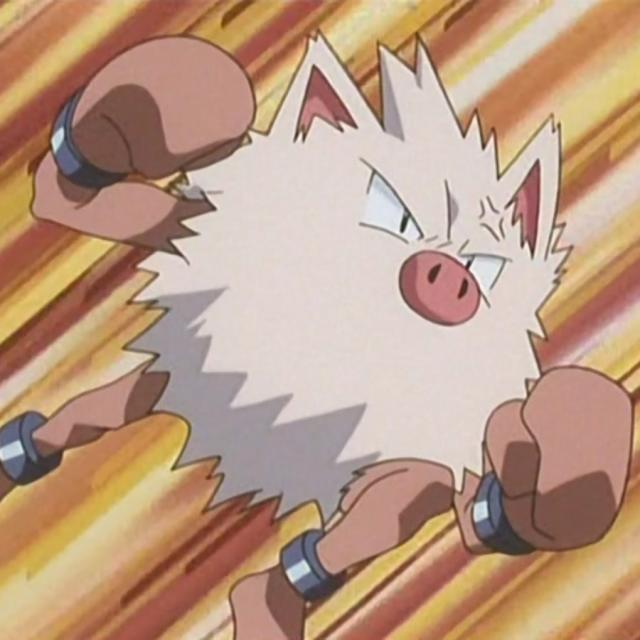Primeape: (79, 57, 595, 584)
